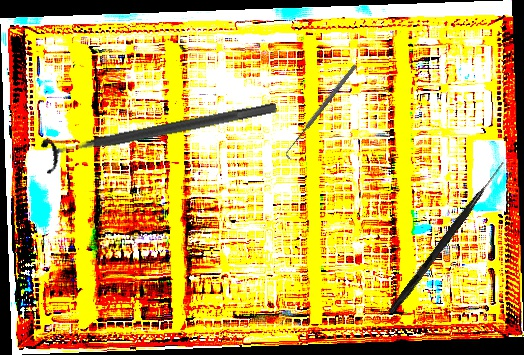Fixation Ring: (39, 89, 281, 176)
Hook Surgical: (388, 158, 506, 317), (281, 62, 362, 161)
